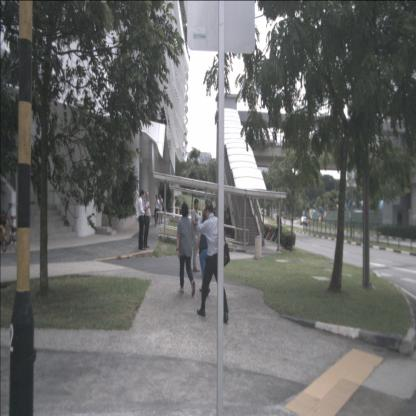human-pedestrian-adult: (196, 202, 230, 322), (177, 202, 196, 297), (195, 198, 212, 298), (191, 198, 200, 272), (137, 190, 146, 250), (143, 190, 152, 248), (154, 194, 160, 226), (158, 194, 164, 225)
vehicle-bicycle: (0, 204, 20, 250), (0, 210, 8, 254)
vehicle-car: (300, 216, 308, 225)
